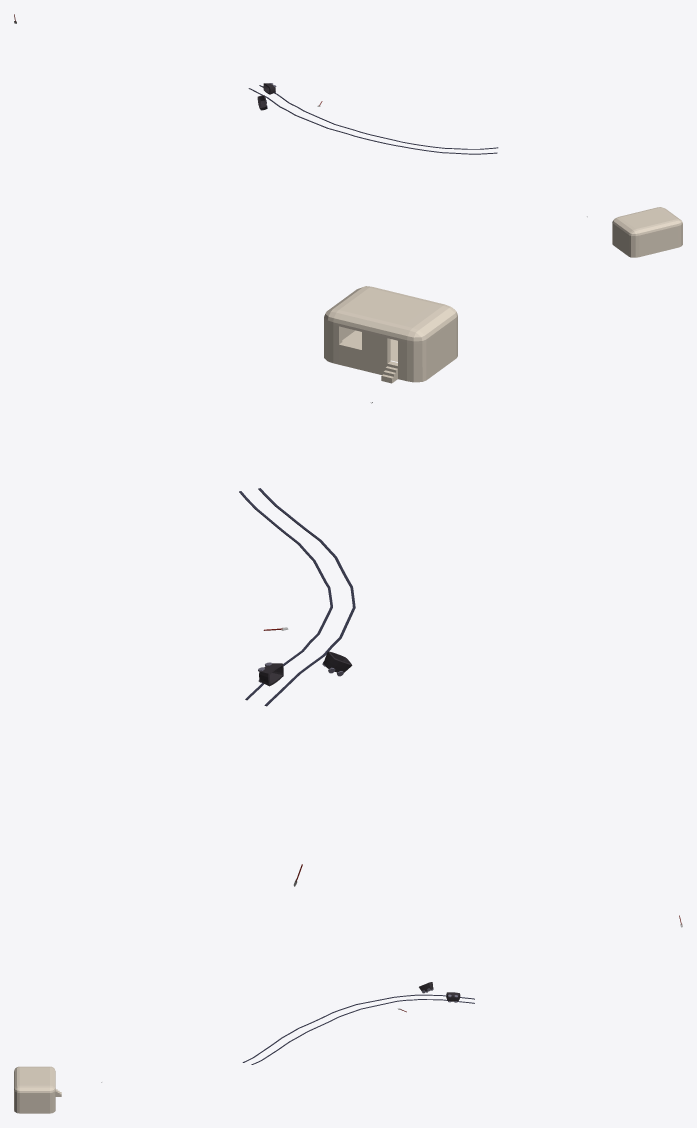
File: Constructions and objects.glb
3 views of the same model, one above another, from view 1: azimuth 30°, elevation 25°; view 2: azimuth 150°, elevation 25°; view 3: azimuth 270°, elevation 25° (orthographic). The views are drawn at different scales.
Parts seen in each view (by area): view 1: Infirmary Facade, Railway, Railway Track; view 2: Infirmary Facade, Railway; view 3: Infirmary Facade, Railway, Railway Track.
Boxes of the visible parts, left/top/right/bottom form: Infirmary Facade: left=612, top=207, right=682, bottom=257; Railway: left=248, top=88, right=497, bottom=154; Railway Track: left=259, top=85, right=498, bottom=149; Infirmary Facade: left=324, top=286, right=457, bottom=382; Railway: left=258, top=488, right=355, bottom=706; Infirmary Facade: left=14, top=1066, right=55, bottom=1113; Railway: left=242, top=994, right=474, bottom=1062; Railway Track: left=251, top=999, right=474, bottom=1064.
Size of the model in its own units: 52.46 by 8.28 by 100.
